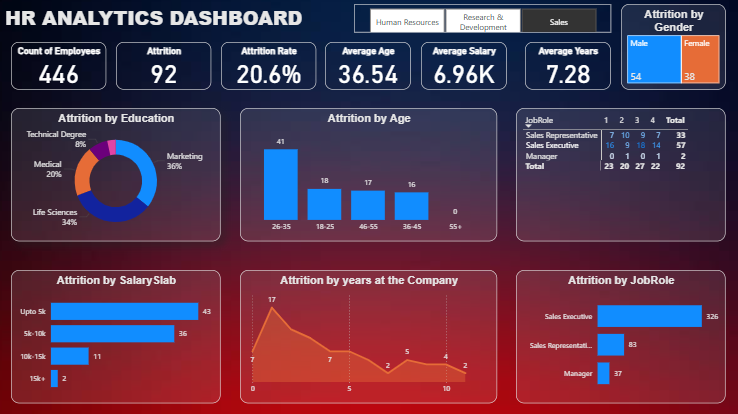

The page's visual inventory and layout, read from the dashboard file:
{"tool":"powerbi","page":{"name":"Page 1","canvas":[1280,720],"ordinal":0},"visuals":[{"type":"card","title":"Count of Employees","fields":{"Values":["CountNonNull(HR_Analytics.EmpID)"]},"box":[32,80,160,80],"z":0},{"type":"card","title":"Attrition","fields":{"Values":["Sum(HR_Analytics.AttritionCount)"]},"box":[208,80,160,80],"z":1000},{"type":"card","title":"Average Age","fields":{"Values":["Avg(HR_Analytics.Age)"]},"box":[560,80,144,80],"z":2000},{"type":"card","title":"Attrition Rate","fields":{"Values":["HR_Analytics.AtritionRate"]},"box":[384,80,160,80],"z":3000},{"type":"card","title":"Average Salary","fields":{"Values":["Avg(HR_Analytics.MonthlyIncome)"]},"box":[720,80,144,80],"z":4000},{"type":"card","title":"Average Years","fields":{"Values":["Avg(HR_Analytics.YearsAtCompany)"]},"box":[896,80,144,80],"z":5000},{"type":"donutChart","title":"Attrition by Education","fields":{"Category":["HR_Analytics.EducationField"],"Y":["CountNonNull(HR_Analytics.Attrition)"]},"box":[32,192,352,224],"z":6000},{"type":"columnChart","title":"Attrition by Age","fields":{"Category":["HR_Analytics.AgeGroup"],"Y":["Sum(HR_Analytics.AttritionCount)"]},"box":[416,192,432,224],"z":7000},{"type":"pivotTable","fields":{"Rows":["HR_Analytics.JobRole"],"Columns":["HR_Analytics.JobSatisfaction"],"Values":["Sum(HR_Analytics.AttritionCount)"]},"box":[880,192,352,224],"z":8000},{"type":"barChart","title":"Attrition by SalarySlab","fields":{"Category":["HR_Analytics.SalarySlab"],"Y":["Sum(HR_Analytics.AttritionCount)"]},"box":[32,464,352,224],"z":9000},{"type":"barChart","title":"Attrition by JobRole","fields":{"Category":["HR_Analytics.JobRole"],"Y":["CountNonNull(HR_Analytics.Attrition)"]},"box":[880,464,352,224],"z":10000},{"type":"areaChart","title":"Attrition by years at the Company","fields":{"Y":["Sum(HR_Analytics.AttritionCount)"],"Category":["HR_Analytics.YearsAtCompany"]},"box":[416,464,432,224],"z":11000},{"type":"treemap","title":"Attrition by Gender","fields":{"Group":["HR_Analytics.Gender"],"Values":["Sum(HR_Analytics.AttritionCount)"]},"box":[1056,16,176,144],"z":12000},{"type":"slicer","fields":{"Values":["HR_Analytics.Department"]},"box":[608,16,432,48],"z":13000},{"type":"textbox","title":"HR  ANALYTICS DASHBOARD","box":[16,16,544,48],"z":14000}]}

Visuals, with their boxes in screenshot pixels (x1, y1, x2, y2), scaled from the page's 1280x720 canvas onto the 738x414 screenshot:
"Count of Employees" card: (18, 46, 111, 92)
"Attrition" card: (120, 46, 212, 92)
"Average Age" card: (323, 46, 406, 92)
"Attrition Rate" card: (221, 46, 314, 92)
"Average Salary" card: (415, 46, 498, 92)
"Average Years" card: (517, 46, 600, 92)
"Attrition by Education" donutChart: (18, 110, 221, 239)
"Attrition by Age" columnChart: (240, 110, 489, 239)
pivotTable - HR_Analytics.JobRole x HR_Analytics.JobSatisfaction: (507, 110, 710, 239)
"Attrition by SalarySlab" barChart: (18, 267, 221, 396)
"Attrition by JobRole" barChart: (507, 267, 710, 396)
"Attrition by years at the Company" areaChart: (240, 267, 489, 396)
"Attrition by Gender" treemap: (609, 9, 710, 92)
slicer - HR_Analytics.Department: (351, 9, 600, 37)
"HR  ANALYTICS DASHBOARD" textbox: (9, 9, 323, 37)
